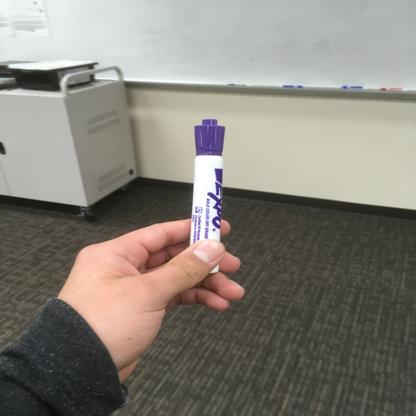expo_marker: (176, 108, 232, 273)
